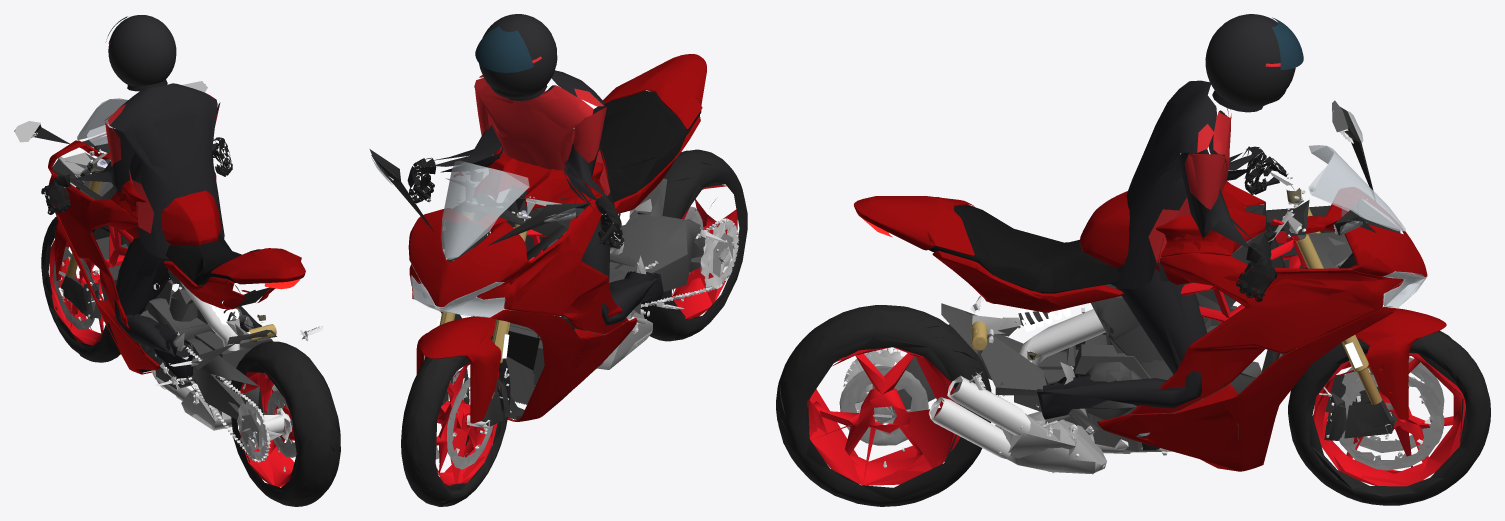
The model's file is moto.glb.
3 renders of one model, left to right at view 1: azimuth 30°, elevation 25°; view 2: azimuth 150°, elevation 25°; view 3: azimuth 270°, elevation 25°, orthographic. The views are drawn at different scales.
Visible parts, largest first — view 1: rider_leather (×2), sb_carpaint_body_front_001_carpaint_red_0, sb_carpaint_body_front_003_tire_sw_0, sb_carpaint_body_front_007_metal_black_0, rider_helmet_shell, far_leather (×2), sb_carpaint_body_front_004_chrome_0 (×2), sb_carpaint_body_front_002_paintRed_0, far_carpaint_body_front_001_carpaint_red_0, sb_carpaint_body_front_013_leather_black_0, sb_carpaint_body_front_009_metal_rough_plus_0, sb_carpaint_body_front_005_plastic_rough_grey_0 (+15 smaller); view 2: sb_carpaint_body_front_001_carpaint_red_0, sb_carpaint_body_front_003_tire_sw_0, sb_carpaint_body_front_007_metal_black_0, sb_carpaint_body_front_026_glass_clear_0, far_carpaint_body_front_026_glass_clear_0, rider_leather_red, far_carpaint_body_front_001_carpaint_red_0, rider_leather (×2), sb_carpaint_body_front_005_plastic_rough_grey_0, sb_carpaint_body_front_002_paintRed_0, far_carpaint_body_front_013_leather_black_0, rider_helmet_shell (+16 smaller); view 3: sb_carpaint_body_front_001_carpaint_red_0, sb_carpaint_body_front_003_tire_sw_0, rider_leather (×2), sb_carpaint_body_front_002_paintRed_0, sb_carpaint_body_front_007_metal_black_0, far_carpaint_body_front_001_carpaint_red_0, rider_helmet_shell, far_carpaint_body_front_003_tire_sw_0, far_carpaint_body_front_002_paintRed_0, sb_carpaint_body_front_013_leather_black_0, sb_carpaint_body_front_026_glass_clear_0, sb_carpaint_body_front_006_brakes_0 (+20 smaller).
Part boxes in pixels (box(x1,y1,x2,y2)): rider_leather (×2): box(71, 83, 260, 357); sb_carpaint_body_front_001_carpaint_red_0: box(48, 133, 305, 374); sb_carpaint_body_front_003_tire_sw_0: box(41, 216, 340, 506); sb_carpaint_body_front_007_metal_black_0: box(96, 234, 276, 419); rider_helmet_shell: box(108, 15, 176, 86); far_leather (×2): box(70, 85, 216, 357); sb_carpaint_body_front_004_chrome_0 (×2): box(58, 159, 323, 462); sb_carpaint_body_front_002_paintRed_0: box(49, 193, 294, 486); far_carpaint_body_front_001_carpaint_red_0: box(49, 134, 304, 374); sb_carpaint_body_front_013_leather_black_0: box(165, 233, 260, 285); sb_carpaint_body_front_009_metal_rough_plus_0: box(58, 146, 259, 447); sb_carpaint_body_front_005_plastic_rough_grey_0: box(14, 124, 270, 317); sb_carpaint_body_front_001_carpaint_red_0: box(408, 54, 706, 423); sb_carpaint_body_front_003_tire_sw_0: box(401, 149, 747, 506); sb_carpaint_body_front_007_metal_black_0: box(495, 178, 705, 404); sb_carpaint_body_front_026_glass_clear_0: box(371, 157, 584, 317); far_carpaint_body_front_026_glass_clear_0: box(373, 160, 528, 316); rider_leather_red: box(474, 75, 610, 195); far_carpaint_body_front_001_carpaint_red_0: box(410, 56, 703, 420); rider_leather (×2): box(432, 70, 657, 330); sb_carpaint_body_front_005_plastic_rough_grey_0: box(369, 149, 590, 419); sb_carpaint_body_front_002_paintRed_0: box(436, 185, 737, 485); far_carpaint_body_front_013_leather_black_0: box(600, 96, 678, 192); rider_helmet_shell: box(479, 14, 557, 98); sb_carpaint_body_front_001_carpaint_red_0: box(854, 181, 1446, 471); sb_carpaint_body_front_003_tire_sw_0: box(776, 305, 1490, 506); rider_leather (×2): box(1042, 80, 1253, 408); sb_carpaint_body_front_002_paintRed_0: box(807, 231, 1465, 486); sb_carpaint_body_front_007_metal_black_0: box(892, 235, 1397, 451); far_carpaint_body_front_001_carpaint_red_0: box(873, 184, 1427, 457); rider_helmet_shell: box(1205, 14, 1295, 107); far_carpaint_body_front_003_tire_sw_0: box(780, 306, 1486, 500); far_carpaint_body_front_002_paintRed_0: box(809, 354, 1453, 485); sb_carpaint_body_front_013_leather_black_0: box(928, 205, 1119, 293); sb_carpaint_body_front_026_glass_clear_0: box(1308, 111, 1427, 308); sb_carpaint_body_front_006_brakes_0: box(839, 357, 1444, 470).
Size of the model in its own units: 0.8459 by 1.58 by 2.11.
